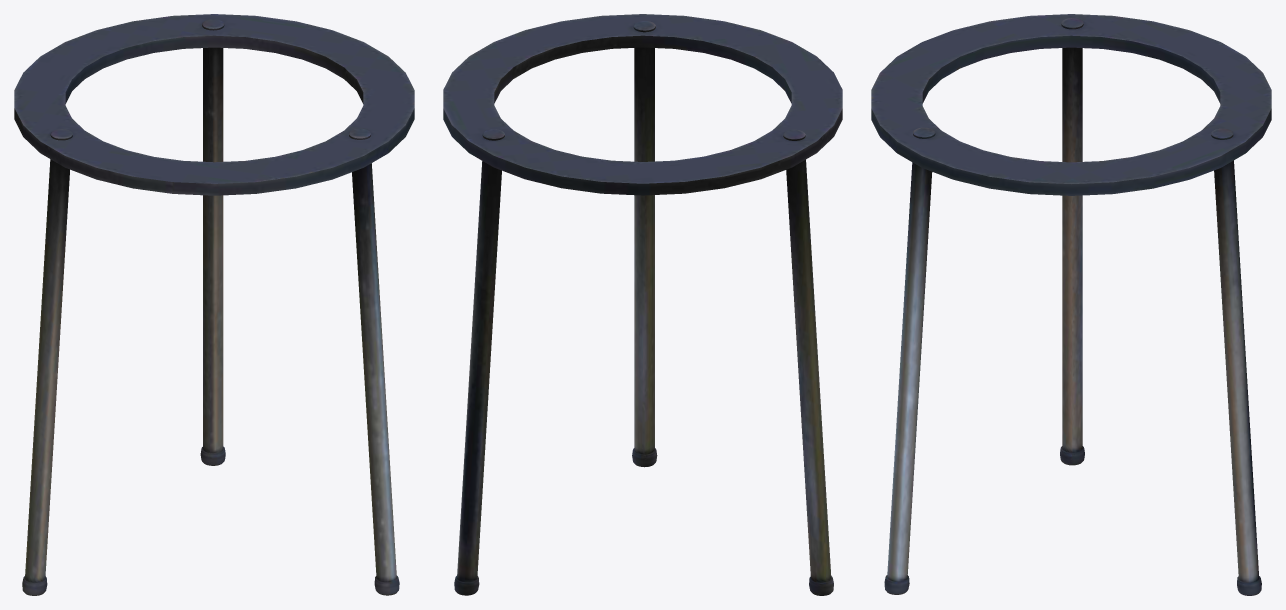
The model's file is tripod.glb.
3 views of the same model, side by side, from view 1: azimuth 30°, elevation 25°; view 2: azimuth 150°, elevation 25°; view 3: azimuth 270°, elevation 25° (orthographic).
Parts seen in each view (by area): view 1: tripod; view 2: tripod; view 3: tripod.
Part boxes in pixels (x1=…): tripod: x1=14, y1=14, x2=414, y2=595; tripod: x1=443, y1=14, x2=842, y2=595; tripod: x1=871, y1=14, x2=1271, y2=595.
Bounding box in the file's own units: 0.1459 × 0.1728 × 0.1387.
1 material, 1 textured.
